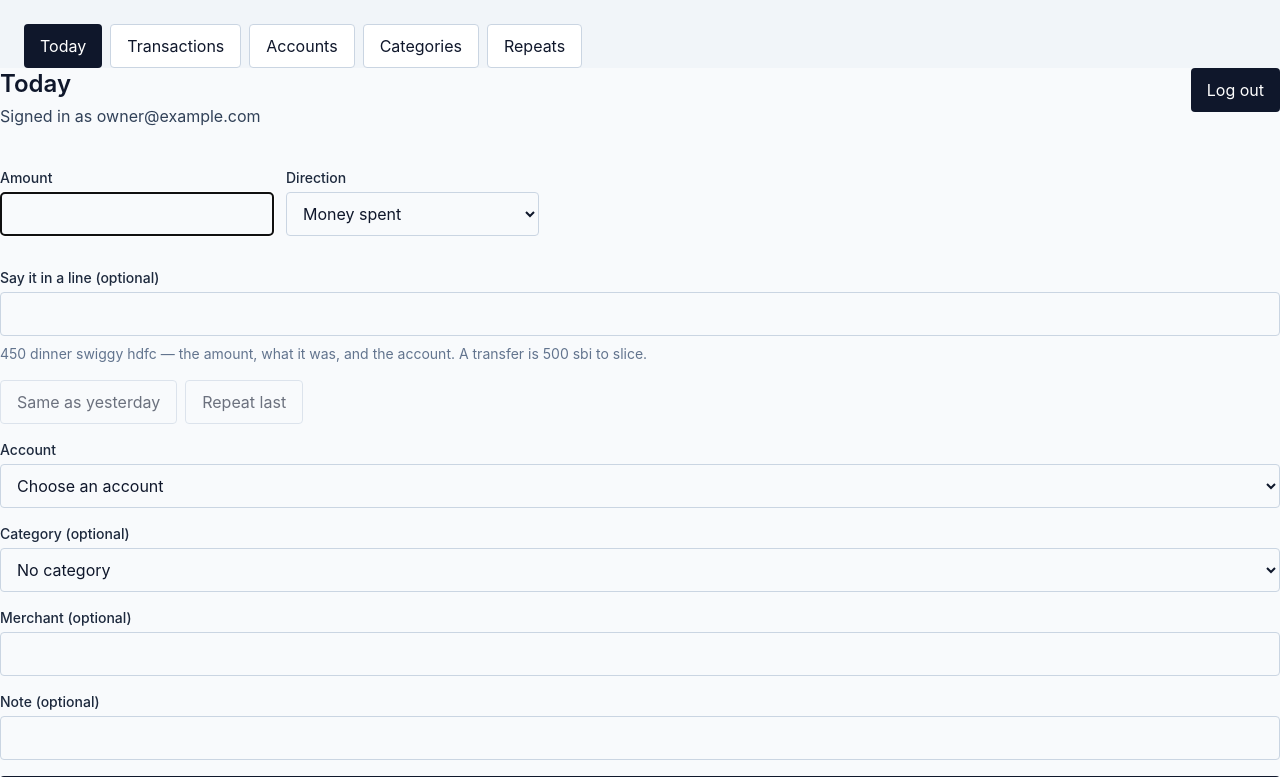
Test case: App › logs out and returns to the login form
Click the button "Log out".
click(1235, 90)  # box [1191,68,1279,112]
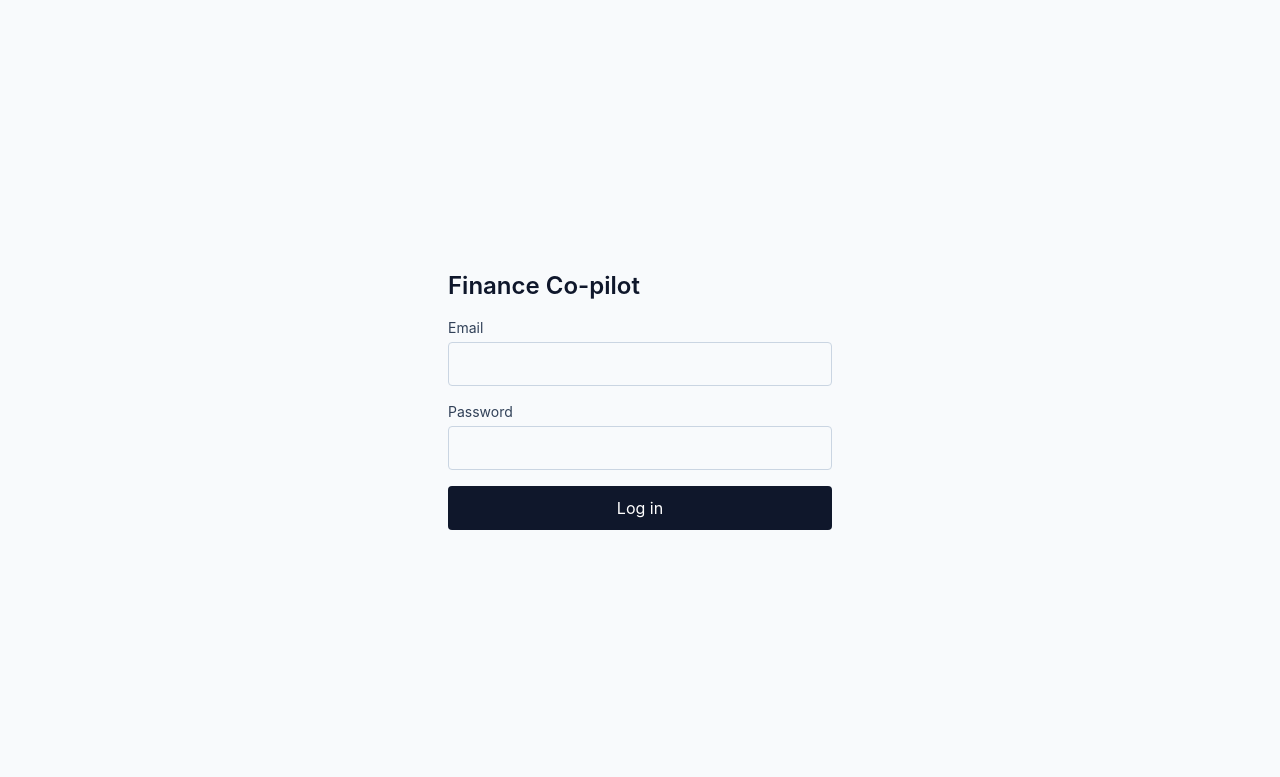
Now the button "Log in" is shown, box [448,486,832,530]
